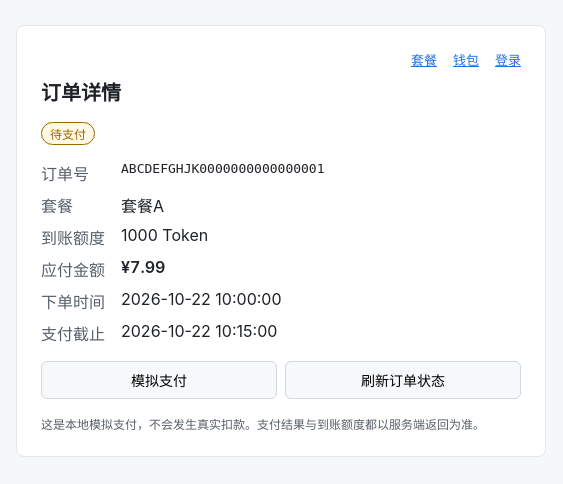
Test case: 订单详情页 › 网络异常提示未确认，并说明重复支付不会重复入账
Click the button "模拟支付" at (159, 380), box [41,361,277,399]
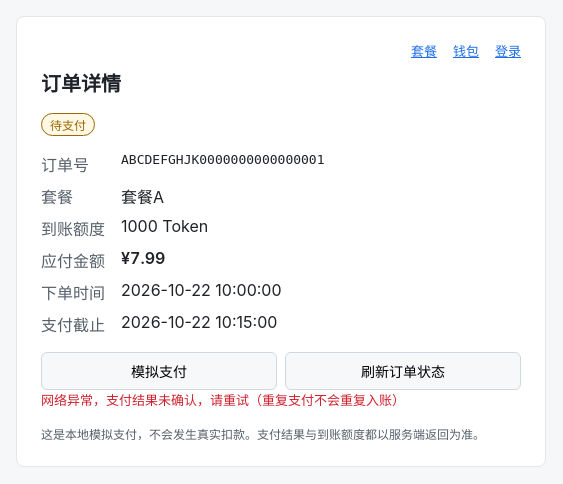
Check: the message reads "网络异常，支付结果未确认，请重试（重复支付不会重复入账）", box [41,392,405,408]
